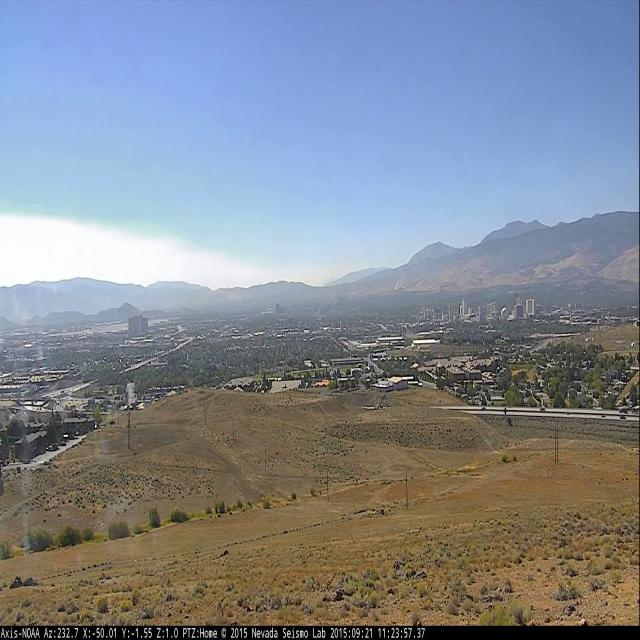smoke: (394, 270, 410, 288)
